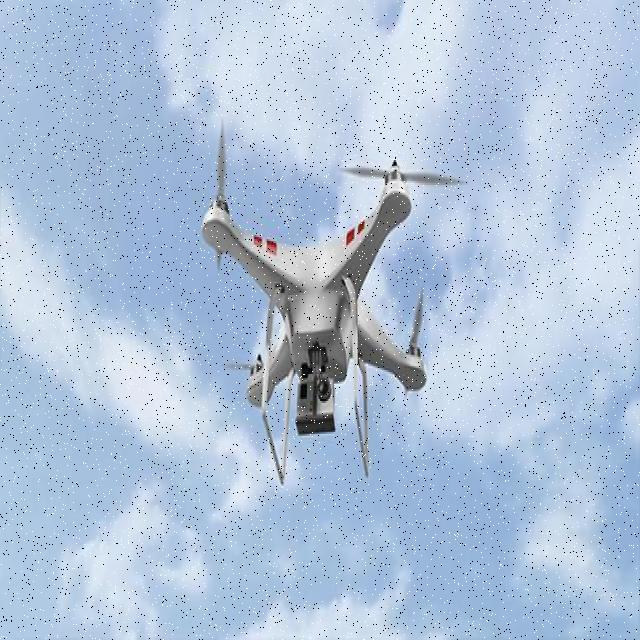UAV: (200, 156, 428, 486)
